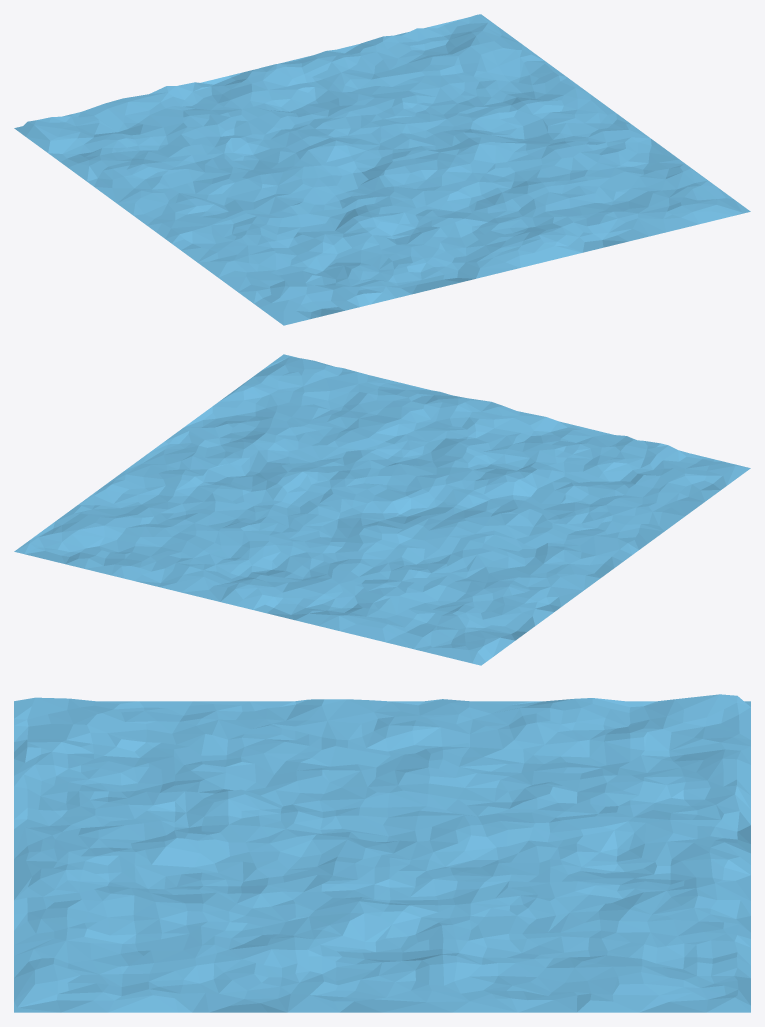
Rendered from water_2.fbx.
3 renders of one model, top to bottom at view 1: azimuth 30°, elevation 25°; view 2: azimuth 150°, elevation 25°; view 3: azimuth 270°, elevation 25°, orthographic. The views are drawn at different scales.
Parts seen in each view (by area): view 1: Plane; view 2: Plane; view 3: Plane.
Part boxes in pixels (bbox=[...]): Plane: bbox=[14, 14, 750, 325]; Plane: bbox=[14, 354, 750, 665]; Plane: bbox=[14, 694, 750, 1012].
Bounding box in the file's own units: 1600 × 44.85 × 1600.
